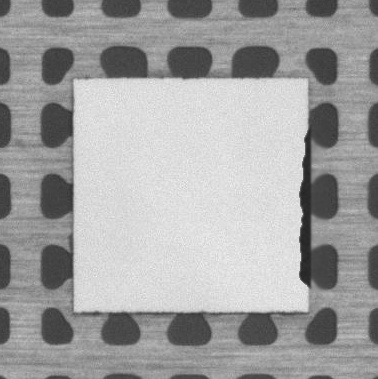DIE_BROKEN: (296, 131, 313, 291)
